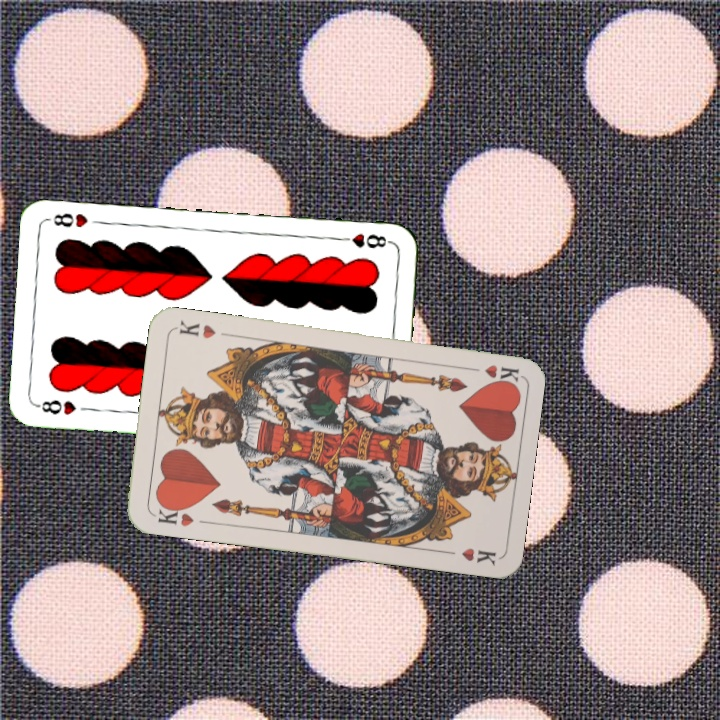H8: (334, 230, 393, 251), (33, 395, 79, 418)
HK: (461, 360, 520, 385), (150, 500, 197, 529)
